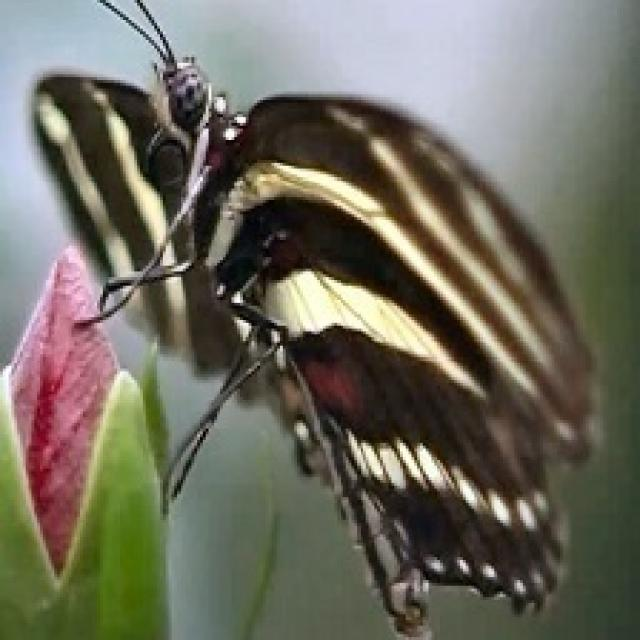butterfly: (28, 0, 603, 637)
